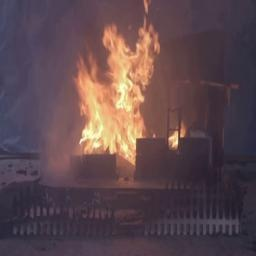fire: (62, 0, 160, 172)
